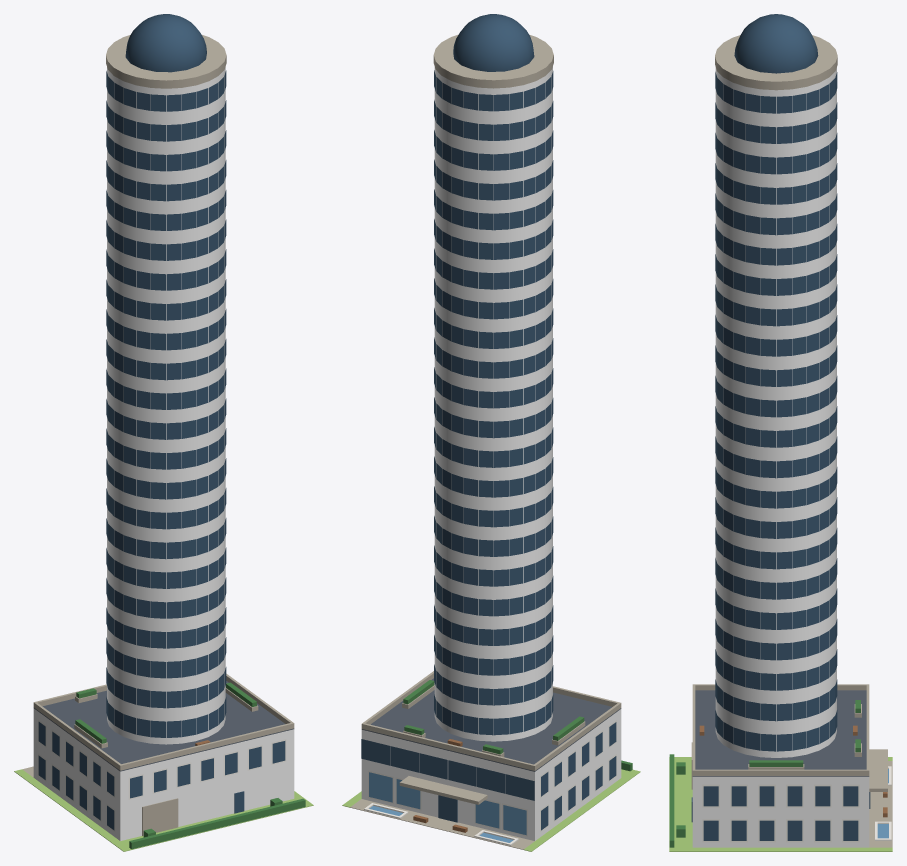
3 renders of one model, left to right at view 1: azimuth 30°, elevation 25°; view 2: azimuth 150°, elevation 25°; view 3: azimuth 270°, elevation 25°, orthographic. The views are drawn at different scales.
Visible parts, largest first — view 1: wall (×2), roof, dome, crown, parapet (×2), lawn (×2), hedge, garage_door; view 2: wall (×2), roof, dome, window_band (×6), crown, parapet (×2), storefront (×3), canopy, lawn, paving; view 3: wall (×2), roof, dome, crown, lawn (×2), parapet, canopy, hedge.
Boxes of the visible parts, bbox=[...] form: wall (×2): bbox=[33, 67, 294, 840]; roof: bbox=[33, 681, 294, 771]; dome: bbox=[125, 14, 206, 72]; crown: bbox=[106, 35, 226, 88]; parapet (×2): bbox=[35, 703, 294, 770]; lawn (×2): bbox=[14, 769, 313, 851]; hedge: bbox=[129, 798, 305, 849]; garage_door: bbox=[142, 798, 178, 835]; wall (×2): bbox=[361, 66, 621, 840]; roof: bbox=[361, 678, 621, 771]; dome: bbox=[453, 14, 534, 71]; window_band (×6): bbox=[361, 739, 534, 800]; crown: bbox=[433, 34, 553, 88]; parapet (×2): bbox=[361, 703, 619, 770]; storefront (×3): bbox=[369, 772, 526, 835]; canopy: bbox=[399, 776, 487, 804]; lawn: bbox=[523, 778, 629, 851]; paving: bbox=[358, 799, 534, 843]; wall (×2): bbox=[692, 67, 869, 847]; roof: bbox=[692, 690, 869, 776]; dome: bbox=[734, 14, 818, 73]; crown: bbox=[715, 35, 837, 90]; lawn (×2): bbox=[669, 757, 892, 851]; parapet: bbox=[695, 769, 866, 775]; canopy: bbox=[869, 749, 887, 791]; hedge: bbox=[669, 754, 674, 847].
Bounding box in the file's own units: 24 × 93.26 × 24.
